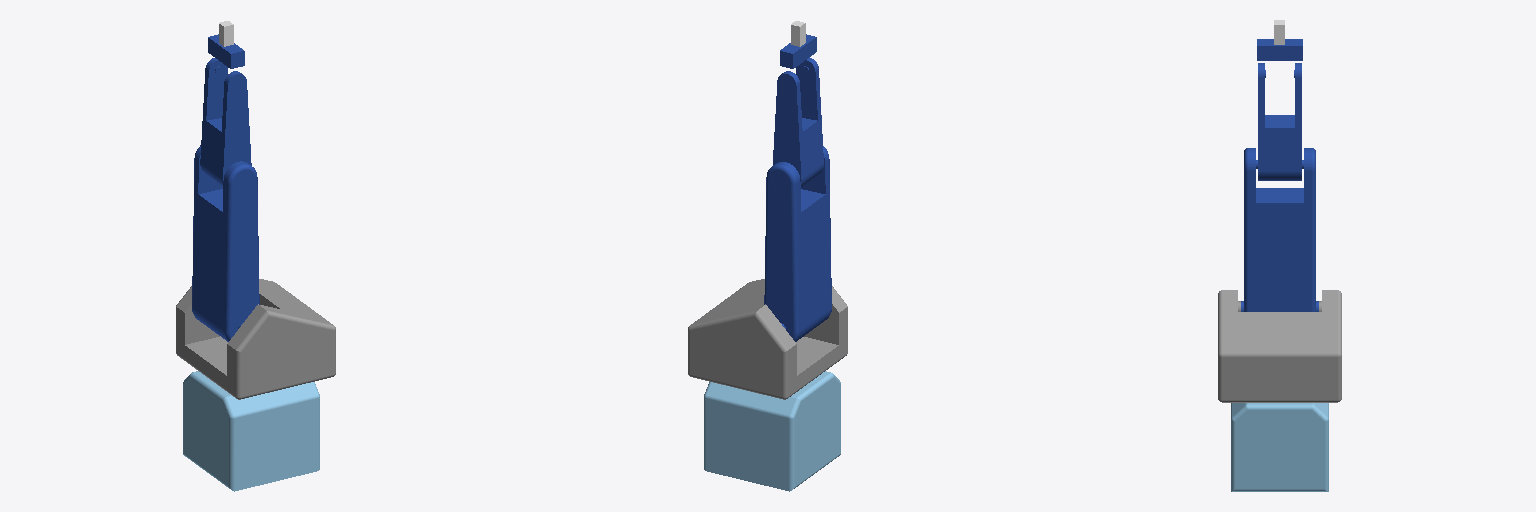
URDF robot description (lablolt5250a0_description_gripper):
<?xml version="1.0" ?>
<!-- Generated using onshape-to-robot -->
<!-- Onshape https://cad.onshape.com/documents/014a20f50428bdbec6a33164/w/f323398f0330f594139dc806/e/e7819094eb14ffb5fdca6208 -->
<robot name="lablolt5250a0_description_gripper">
  <!-- Link part_1 -->
  <link name="part_1">
    <inertial>
      <origin xyz="0 0 0" rpy="0 0 0"/>
      <mass value="1e-09"/>
      <inertia ixx="1e-09" ixy="0" ixz="0" iyy="1e-09" iyz="0" izz="1e-09"/>
    </inertial>
    <!-- Part part_1 -->
    <visual>
      <origin xyz="0 0 0" rpy="0 -0 0"/>
      <geometry>
        <mesh filename="package://lablolt5250a0_description_gripper/assets/part_1.stl"/>
      </geometry>
      <material name="part_1_material">
        <color rgba="0.615686 0.811765 0.929412 1.0"/>
      </material>
    </visual>
    <collision>
      <origin xyz="0 0 0" rpy="0 -0 0"/>
      <geometry>
        <mesh filename="package://assets/part_1.stl"/>
      </geometry>
    </collision>
  </link>
  <!-- Link part_2 -->
  <link name="part_2">
    <inertial>
      <origin xyz="0 0 0" rpy="0 0 0"/>
      <mass value="1e-09"/>
      <inertia ixx="1e-09" ixy="0" ixz="0" iyy="1e-09" iyz="0" izz="1e-09"/>
    </inertial>
    <!-- Part part_2 -->
    <visual>
      <origin xyz="0.061 -1.3831e-17 0.2285" rpy="3.14159 -0 7.46023e-62"/>
      <geometry>
        <mesh filename="package://assets/part_2.stl"/>
      </geometry>
      <material name="part_2_material">
        <color rgba="0.647059 0.647059 0.647059 1.0"/>
      </material>
    </visual>
    <collision>
      <origin xyz="0.061 -1.3831e-17 0.2285" rpy="3.14159 -0 7.46023e-62"/>
      <geometry>
        <mesh filename="package://assets/part_2.stl"/>
      </geometry>
    </collision>
  </link>
  <!-- Link part_3 -->
  <link name="part_3">
    <inertial>
      <origin xyz="0 0 0" rpy="0 0 0"/>
      <mass value="1e-09"/>
      <inertia ixx="1e-09" ixy="0" ixz="0" iyy="1e-09" iyz="0" izz="1e-09"/>
    </inertial>
    <!-- Part part_3 -->
    <visual>
      <origin xyz="0.0665 0.381473 -0.089" rpy="1.5708 -6.75229e-32 7.88861e-31"/>
      <geometry>
        <mesh filename="package://assets/part_3.stl"/>
      </geometry>
      <material name="part_3_material">
        <color rgba="0.231373 0.380392 0.705882 1.0"/>
      </material>
    </visual>
    <collision>
      <origin xyz="0.0665 0.381473 -0.089" rpy="1.5708 -6.75229e-32 7.88861e-31"/>
      <geometry>
        <mesh filename="package://assets/part_3.stl"/>
      </geometry>
    </collision>
  </link>
  <!-- Link part_4 -->
  <link name="part_4">
    <inertial>
      <origin xyz="0 0 0" rpy="0 0 0"/>
      <mass value="1e-09"/>
      <inertia ixx="1e-09" ixy="0" ixz="0" iyy="1e-09" iyz="0" izz="1e-09"/>
    </inertial>
    <!-- Part part_4 -->
    <visual>
      <origin xyz="0.0665 0.747473 -0.05275" rpy="1.5708 3.96473e-31 0"/>
      <geometry>
        <mesh filename="package://assets/part_4.stl"/>
      </geometry>
      <material name="part_4_material">
        <color rgba="0.231373 0.380392 0.705882 1.0"/>
      </material>
    </visual>
    <collision>
      <origin xyz="0.0665 0.747473 -0.05275" rpy="1.5708 3.96473e-31 0"/>
      <geometry>
        <mesh filename="package://assets/part_4.stl"/>
      </geometry>
    </collision>
  </link>
  <!-- Link part_5 -->
  <link name="part_5">
    <inertial>
      <origin xyz="0 0 0" rpy="0 0 0"/>
      <mass value="1e-09"/>
      <inertia ixx="1e-09" ixy="0" ixz="0" iyy="1e-09" iyz="0" izz="1e-09"/>
    </inertial>
    <!-- Part part_5 -->
    <visual>
      <origin xyz="0.0665 0.977473 -0.0313886" rpy="1.5708 4.05366e-43 0"/>
      <geometry>
        <mesh filename="package://assets/part_5.stl"/>
      </geometry>
      <material name="part_5_material">
        <color rgba="0.231373 0.380392 0.705882 1.0"/>
      </material>
    </visual>
    <collision>
      <origin xyz="0.0665 0.977473 -0.0313886" rpy="1.5708 4.05366e-43 0"/>
      <geometry>
        <mesh filename="package://assets/part_5.stl"/>
      </geometry>
    </collision>
  </link>
  <!-- Link part_6 -->
  <link name="part_6">
    <inertial>
      <origin xyz="0 0 0" rpy="0 0 0"/>
      <mass value="1e-09"/>
      <inertia ixx="1e-09" ixy="0" ixz="0" iyy="1e-09" iyz="0" izz="1e-09"/>
    </inertial>
    <!-- Part part_6 -->
    <visual>
      <origin xyz="0.0665 -0.00075 1.01889" rpy="3.14159 -0 5.95794e-43"/>
      <geometry>
        <mesh filename="package://assets/part_6.stl"/>
      </geometry>
      <material name="part_6_material">
        <color rgba="0.231373 0.380392 0.705882 1.0"/>
      </material>
    </visual>
    <collision>
      <origin xyz="0.0665 -0.00075 1.01889" rpy="3.14159 -0 5.95794e-43"/>
      <geometry>
        <mesh filename="package://assets/part_6.stl"/>
      </geometry>
    </collision>
  </link>
  <!-- Link part_7 -->
  <link name="part_7">
    <inertial>
      <origin xyz="0 0 0" rpy="0 0 0"/>
      <mass value="1e-09"/>
      <inertia ixx="1e-09" ixy="0" ixz="0" iyy="1e-09" iyz="0" izz="1e-09"/>
    </inertial>
    <!-- Part part_7 -->
    <visual>
      <origin xyz="0.0665 1.05689 0.00075" rpy="1.5708 5.93537e-43 0"/>
      <geometry>
        <mesh filename="package://assets/part_7.stl"/>
      </geometry>
      <material name="part_7_material">
        <color rgba="0.917647 0.917647 0.917647 1.0"/>
      </material>
    </visual>
    <collision>
      <origin xyz="0.0665 1.05689 0.00075" rpy="1.5708 5.93537e-43 0"/>
      <geometry>
        <mesh filename="package://assets/part_7.stl"/>
      </geometry>
    </collision>
  </link>
  <!-- Joint from part_6 to part_7 -->
  <joint name="Slider 1" type="prismatic">
    <origin xyz="-1.38778e-17 1.0842e-19 -0.038" rpy="1.5708 1.57772e-30 3.9443e-31"/>
    <parent link="part_6"/>
    <child link="part_7"/>
    <axis xyz="0 0 1"/>
    <limit effort="10" velocity="10" lower="-0.04" upper="0"/>
  </joint>
  <!-- Link part_8 -->
  <link name="part_8">
    <inertial>
      <origin xyz="0 0 0" rpy="0 0 0"/>
      <mass value="1e-09"/>
      <inertia ixx="1e-09" ixy="0" ixz="0" iyy="1e-09" iyz="0" izz="1e-09"/>
    </inertial>
    <!-- Part part_8 -->
    <visual>
      <origin xyz="0.0665 -1.05689 -0.00075" rpy="-1.5708 7.1322e-33 0"/>
      <geometry>
        <mesh filename="package://assets/part_8.stl"/>
      </geometry>
      <material name="part_8_material">
        <color rgba="0.917647 0.917647 0.917647 1.0"/>
      </material>
    </visual>
    <collision>
      <origin xyz="0.0665 -1.05689 -0.00075" rpy="-1.5708 7.1322e-33 0"/>
      <geometry>
        <mesh filename="package://assets/part_8.stl"/>
      </geometry>
    </collision>
  </link>
  <!-- Joint from part_6 to part_8 -->
  <joint name="Slider 2" type="prismatic">
    <origin xyz="1.17961e-15 -1.74611e-15 -0.038" rpy="-1.5708 7.49401e-16 1.51823e-15"/>
    <parent link="part_6"/>
    <child link="part_8"/>
    <axis xyz="0 0 1"/>
    <limit effort="10" velocity="10" lower="-0.04" upper="-1.74622e-15"/>
    <mimic joint="Slider 1" multiplier="1.0"/>
  </joint>
  <!-- Joint from part_5 to part_6 -->
  <joint name="Revolute 5" type="revolute">
    <origin xyz="-1.66533e-16 -0.041413 -0.0321386" rpy="-1.5708 -1.84933e-15 1.43757e-15"/>
    <parent link="part_5"/>
    <child link="part_6"/>
    <axis xyz="0 0 1"/>
    <limit effort="10" velocity="10" lower="-1.5708" upper="1.5708"/>
  </joint>
  <!-- Joint from part_4 to part_5 -->
  <joint name="Revolute 4" type="revolute">
    <origin xyz="-1.47105e-15 -0.23 -0.0213614" rpy="-6.70734e-15 1.06007e-14 -1.80125e-14"/>
    <parent link="part_4"/>
    <child link="part_5"/>
    <axis xyz="0 0 1"/>
    <limit effort="10" velocity="10" lower="-1.5708" upper="1.5708"/>
  </joint>
  <!-- Joint from part_3 to part_4 -->
  <joint name="Revolute 3" type="revolute">
    <origin xyz="0 -0.366 -0.03625" rpy="6.14954e-15 -2.64151e-15 4.03745e-16"/>
    <parent link="part_3"/>
    <child link="part_4"/>
    <axis xyz="0 0 1"/>
    <limit effort="10" velocity="10" lower="-2.0944" upper="2.0944"/>
  </joint>
  <!-- Joint from part_2 to part_3 -->
  <joint name="Revolute 2" type="revolute">
    <origin xyz="-0.0055 -0.089 -0.152973" rpy="1.5708 -5.53595e-15 -8.05484e-15"/>
    <parent link="part_2"/>
    <child link="part_3"/>
    <axis xyz="0 0 1"/>
    <limit effort="10" velocity="10" lower="-2.0944" upper="0.349066"/>
  </joint>
  <!-- Joint from part_1 to part_2 -->
  <joint name="Revolute 1" type="revolute">
    <origin xyz="-0.061 7.70547e-17 0.2285" rpy="3.14159 8.39705e-32 -1.249e-16"/>
    <parent link="part_1"/>
    <child link="part_2"/>
    <axis xyz="0 0 1"/>
    <limit effort="10" velocity="10" lower="0" upper="3.14159"/>
  </joint>
</robot>

--- Render facts (derived) ---
Views: 3 orthographic renders of the robot side by side, from view 1: azimuth 30°, elevation 25°; view 2: azimuth 150°, elevation 25°; view 3: azimuth 270°, elevation 25°.
Model lablolt5250a0_description_gripper with 8 links and 7 joints (5 revolute, 2 prismatic), rooted at part_1, posed all joints at 0 but 1 set to mid-range because 0 is outside their limits (, +1 more).
Links seen in each view (by area): view 1: part_1, part_2, part_3, part_4, part_5, part_6; view 2: part_1, part_2, part_3, part_4, part_5, part_6; view 3: part_2, part_3, part_1, part_5, part_4, part_6.
Boxes of the visible links, left/top/right/bottom form: part_1: left=183, top=371, right=319, bottom=491; part_2: left=176, top=279, right=335, bottom=399; part_3: left=192, top=145, right=259, bottom=341; part_4: left=203, top=60, right=245, bottom=184; part_5: left=200, top=58, right=251, bottom=186; part_6: left=208, top=34, right=244, bottom=68; part_1: left=704, top=371, right=840, bottom=491; part_2: left=688, top=279, right=847, bottom=399; part_3: left=764, top=146, right=831, bottom=341; part_4: left=777, top=59, right=821, bottom=184; part_5: left=773, top=57, right=823, bottom=186; part_6: left=780, top=34, right=816, bottom=68; part_2: left=1218, top=290, right=1341, bottom=402; part_3: left=1241, top=148, right=1318, bottom=311; part_1: left=1231, top=403, right=1328, bottom=491; part_5: left=1258, top=63, right=1301, bottom=180; part_4: left=1257, top=63, right=1302, bottom=180; part_6: left=1257, top=39, right=1302, bottom=60.
Size in the robot's own frame: 0.26 by 0.285 by 1.11 metres.
8 mesh visuals loaded from 8 distinct referenced files (8 binary STL).
